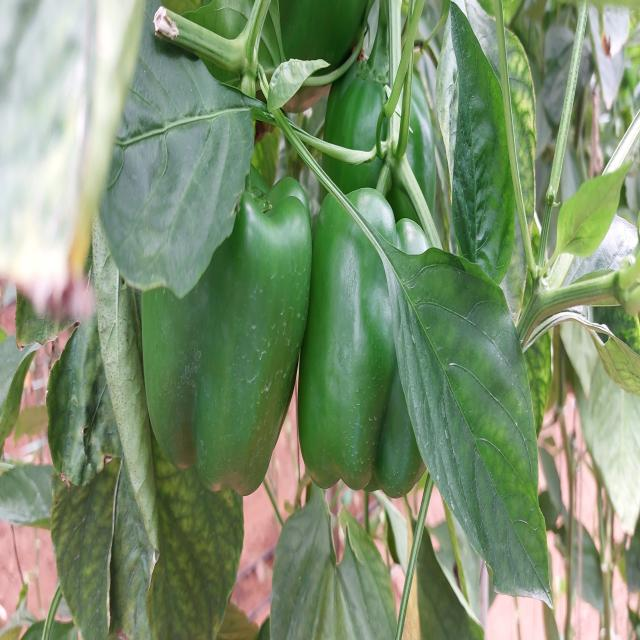Green--Not-ready-to-harvest: (136, 135, 302, 494), (302, 193, 448, 514)
